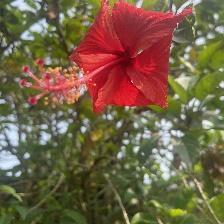hibiscus: (17, 1, 195, 119)
